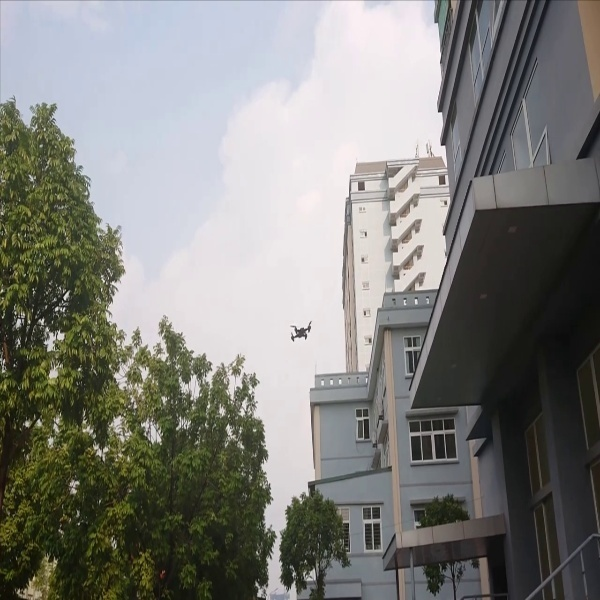drone: (285, 316, 315, 347)
